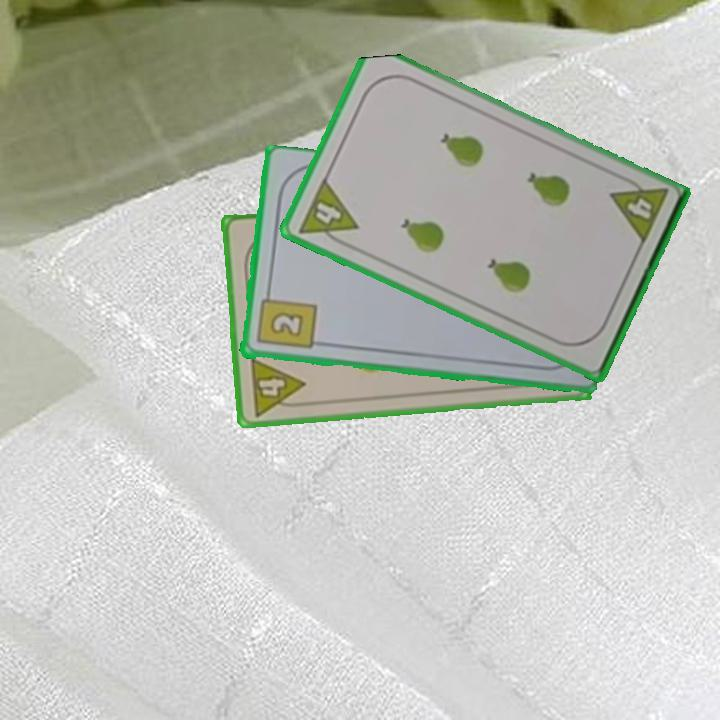2b: (253, 286, 318, 353)
4p: (294, 175, 361, 251), (607, 171, 671, 248), (246, 354, 309, 419)
